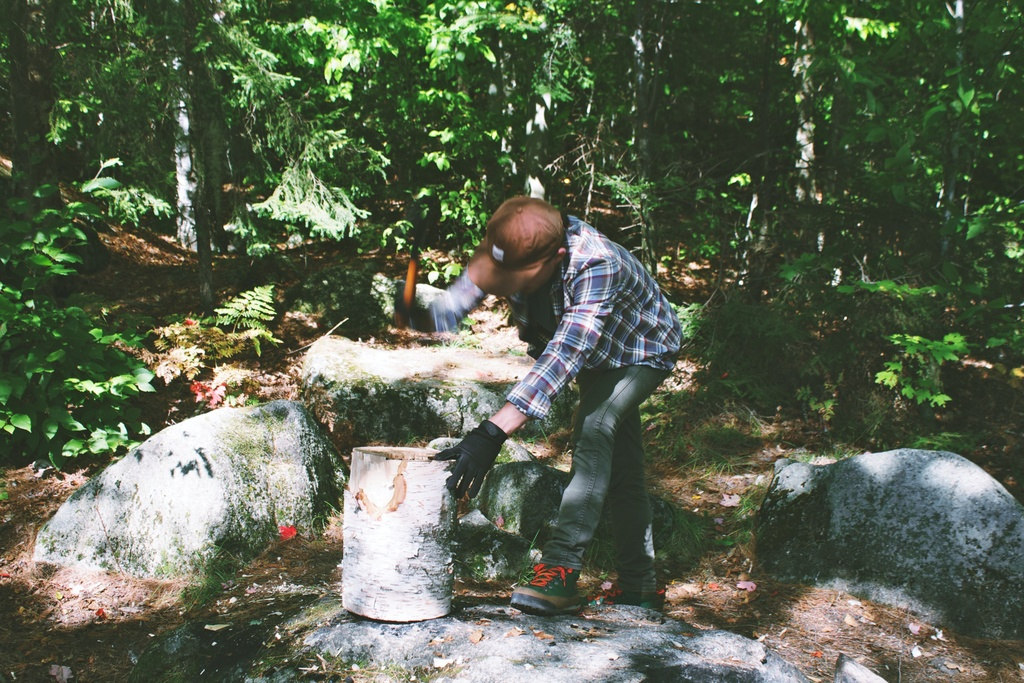Tree: (0, 0, 1023, 484), (0, 0, 591, 300)
